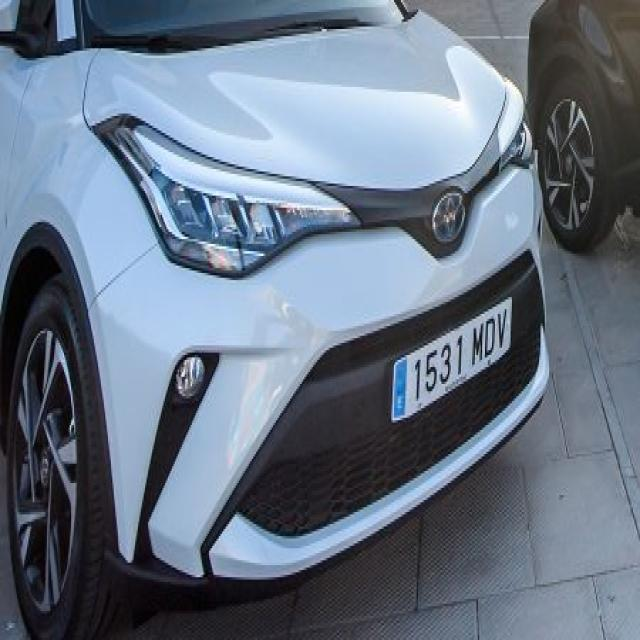license_plate-34Td: (391, 299, 511, 420)
